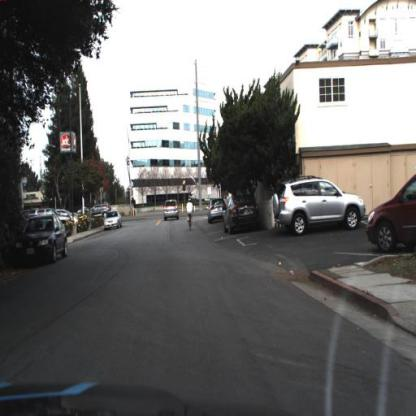biker: (185, 197, 195, 233), (187, 200, 195, 229)
car: (274, 178, 368, 234), (368, 166, 416, 257), (13, 212, 72, 267), (15, 214, 68, 268), (224, 196, 262, 235), (89, 202, 113, 223), (103, 208, 123, 231), (162, 199, 182, 222), (208, 199, 226, 224), (105, 209, 123, 230), (164, 201, 179, 220)
trafficLight-Red: (182, 179, 188, 193)
